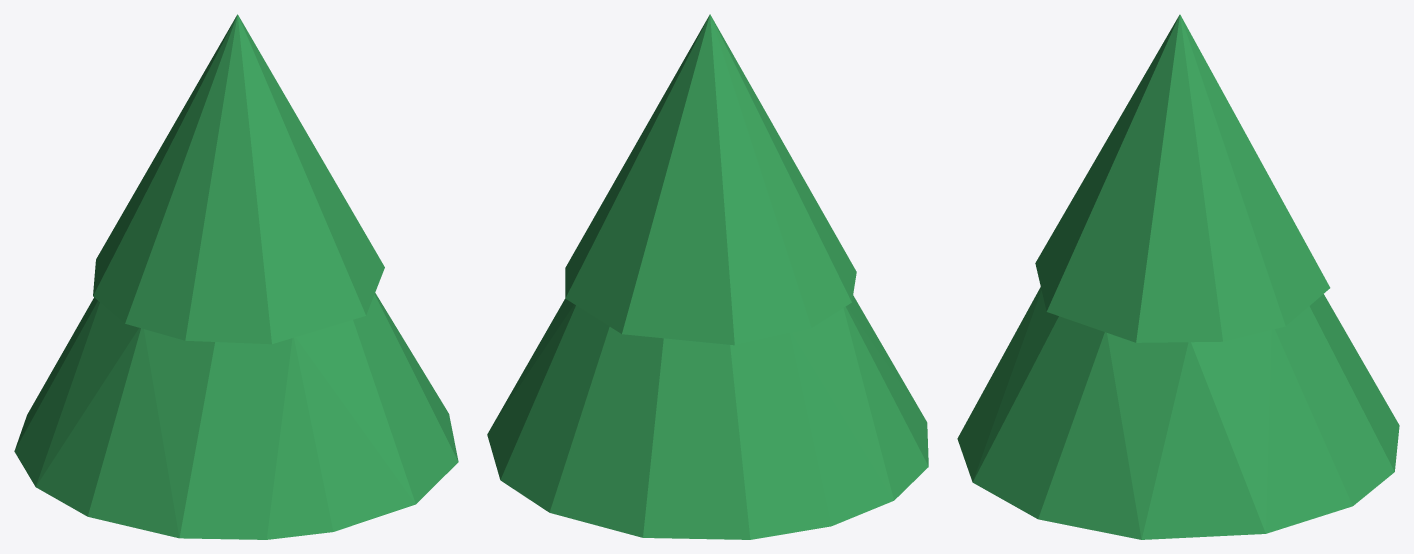
Rendered from bush2.fbx.
3 views of the same model, side by side, from view 1: azimuth 30°, elevation 25°; view 2: azimuth 150°, elevation 25°; view 3: azimuth 270°, elevation 25° (orthographic).
Visible parts, largest first — view 1: bush2; view 2: bush2; view 3: bush2.
Boxes of the visible parts, x1,y1,x2,y2 form: bush2: (14,14,458,539); bush2: (487,14,928,539); bush2: (957,14,1399,539).
Bounding box in the file's own units: 86.9 × 93.28 × 86.47.
